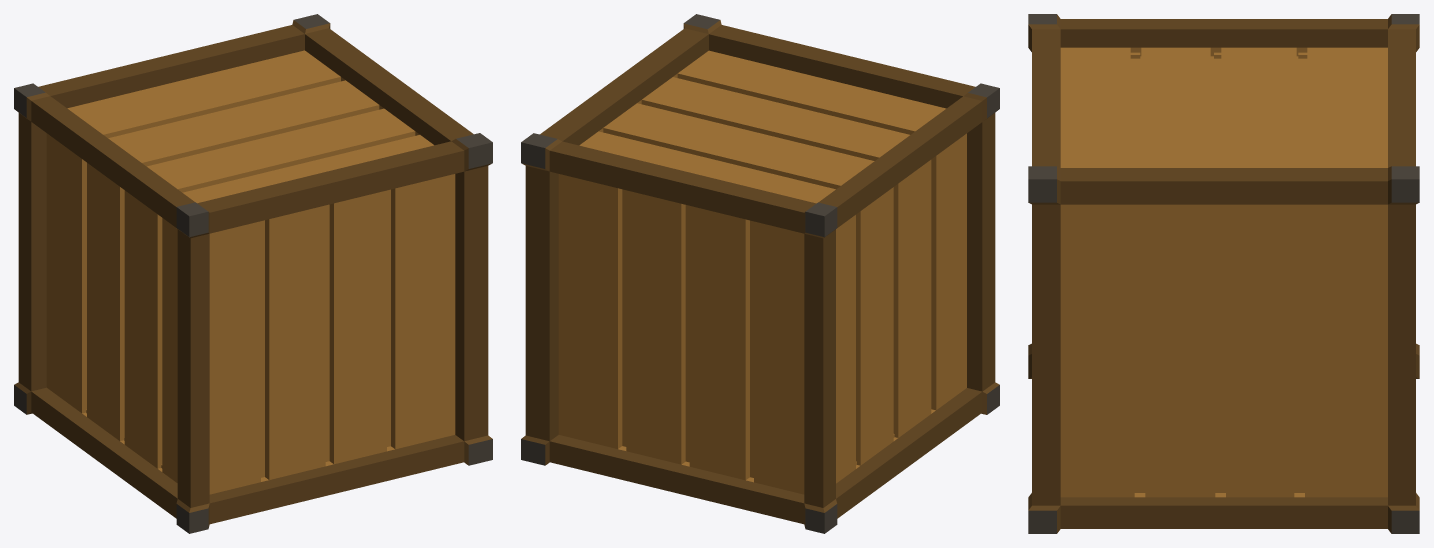
The model's file is woodenBox.fbx.
3 views of the same model, side by side, from view 1: azimuth 30°, elevation 25°; view 2: azimuth 150°, elevation 25°; view 3: azimuth 270°, elevation 25° (orthographic). The views are drawn at different scales.
Parts seen in each view (by area): view 1: Cube.001, Cube; view 2: Cube.001, Cube; view 3: Cube.001, Cube.
Part boxes in pixels (left/top/right/bottom): Cube.001: left=46, top=50, right=455, bottom=494; Cube: left=14, top=14, right=492, bottom=533; Cube.001: left=558, top=50, right=966, bottom=494; Cube: left=521, top=14, right=999, bottom=533; Cube.001: left=1060, top=47, right=1387, bottom=497; Cube: left=1028, top=14, right=1419, bottom=533.
Bounding box in the file's own units: 204 × 204 × 204.
